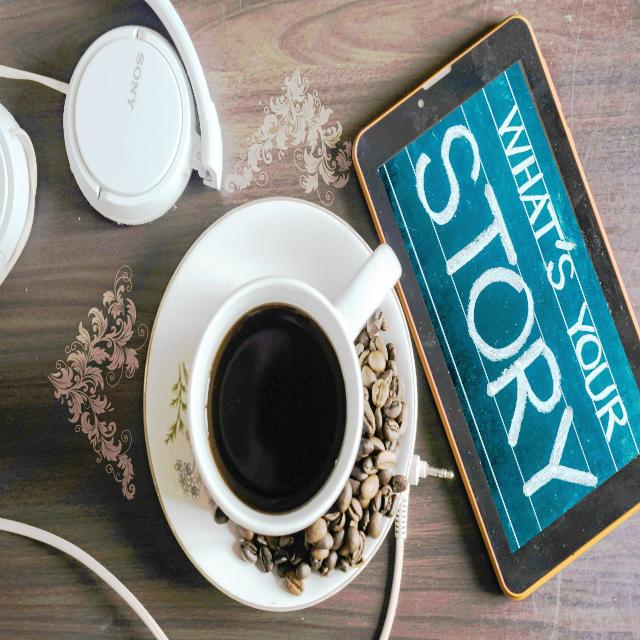drink: (186, 244, 399, 534)
